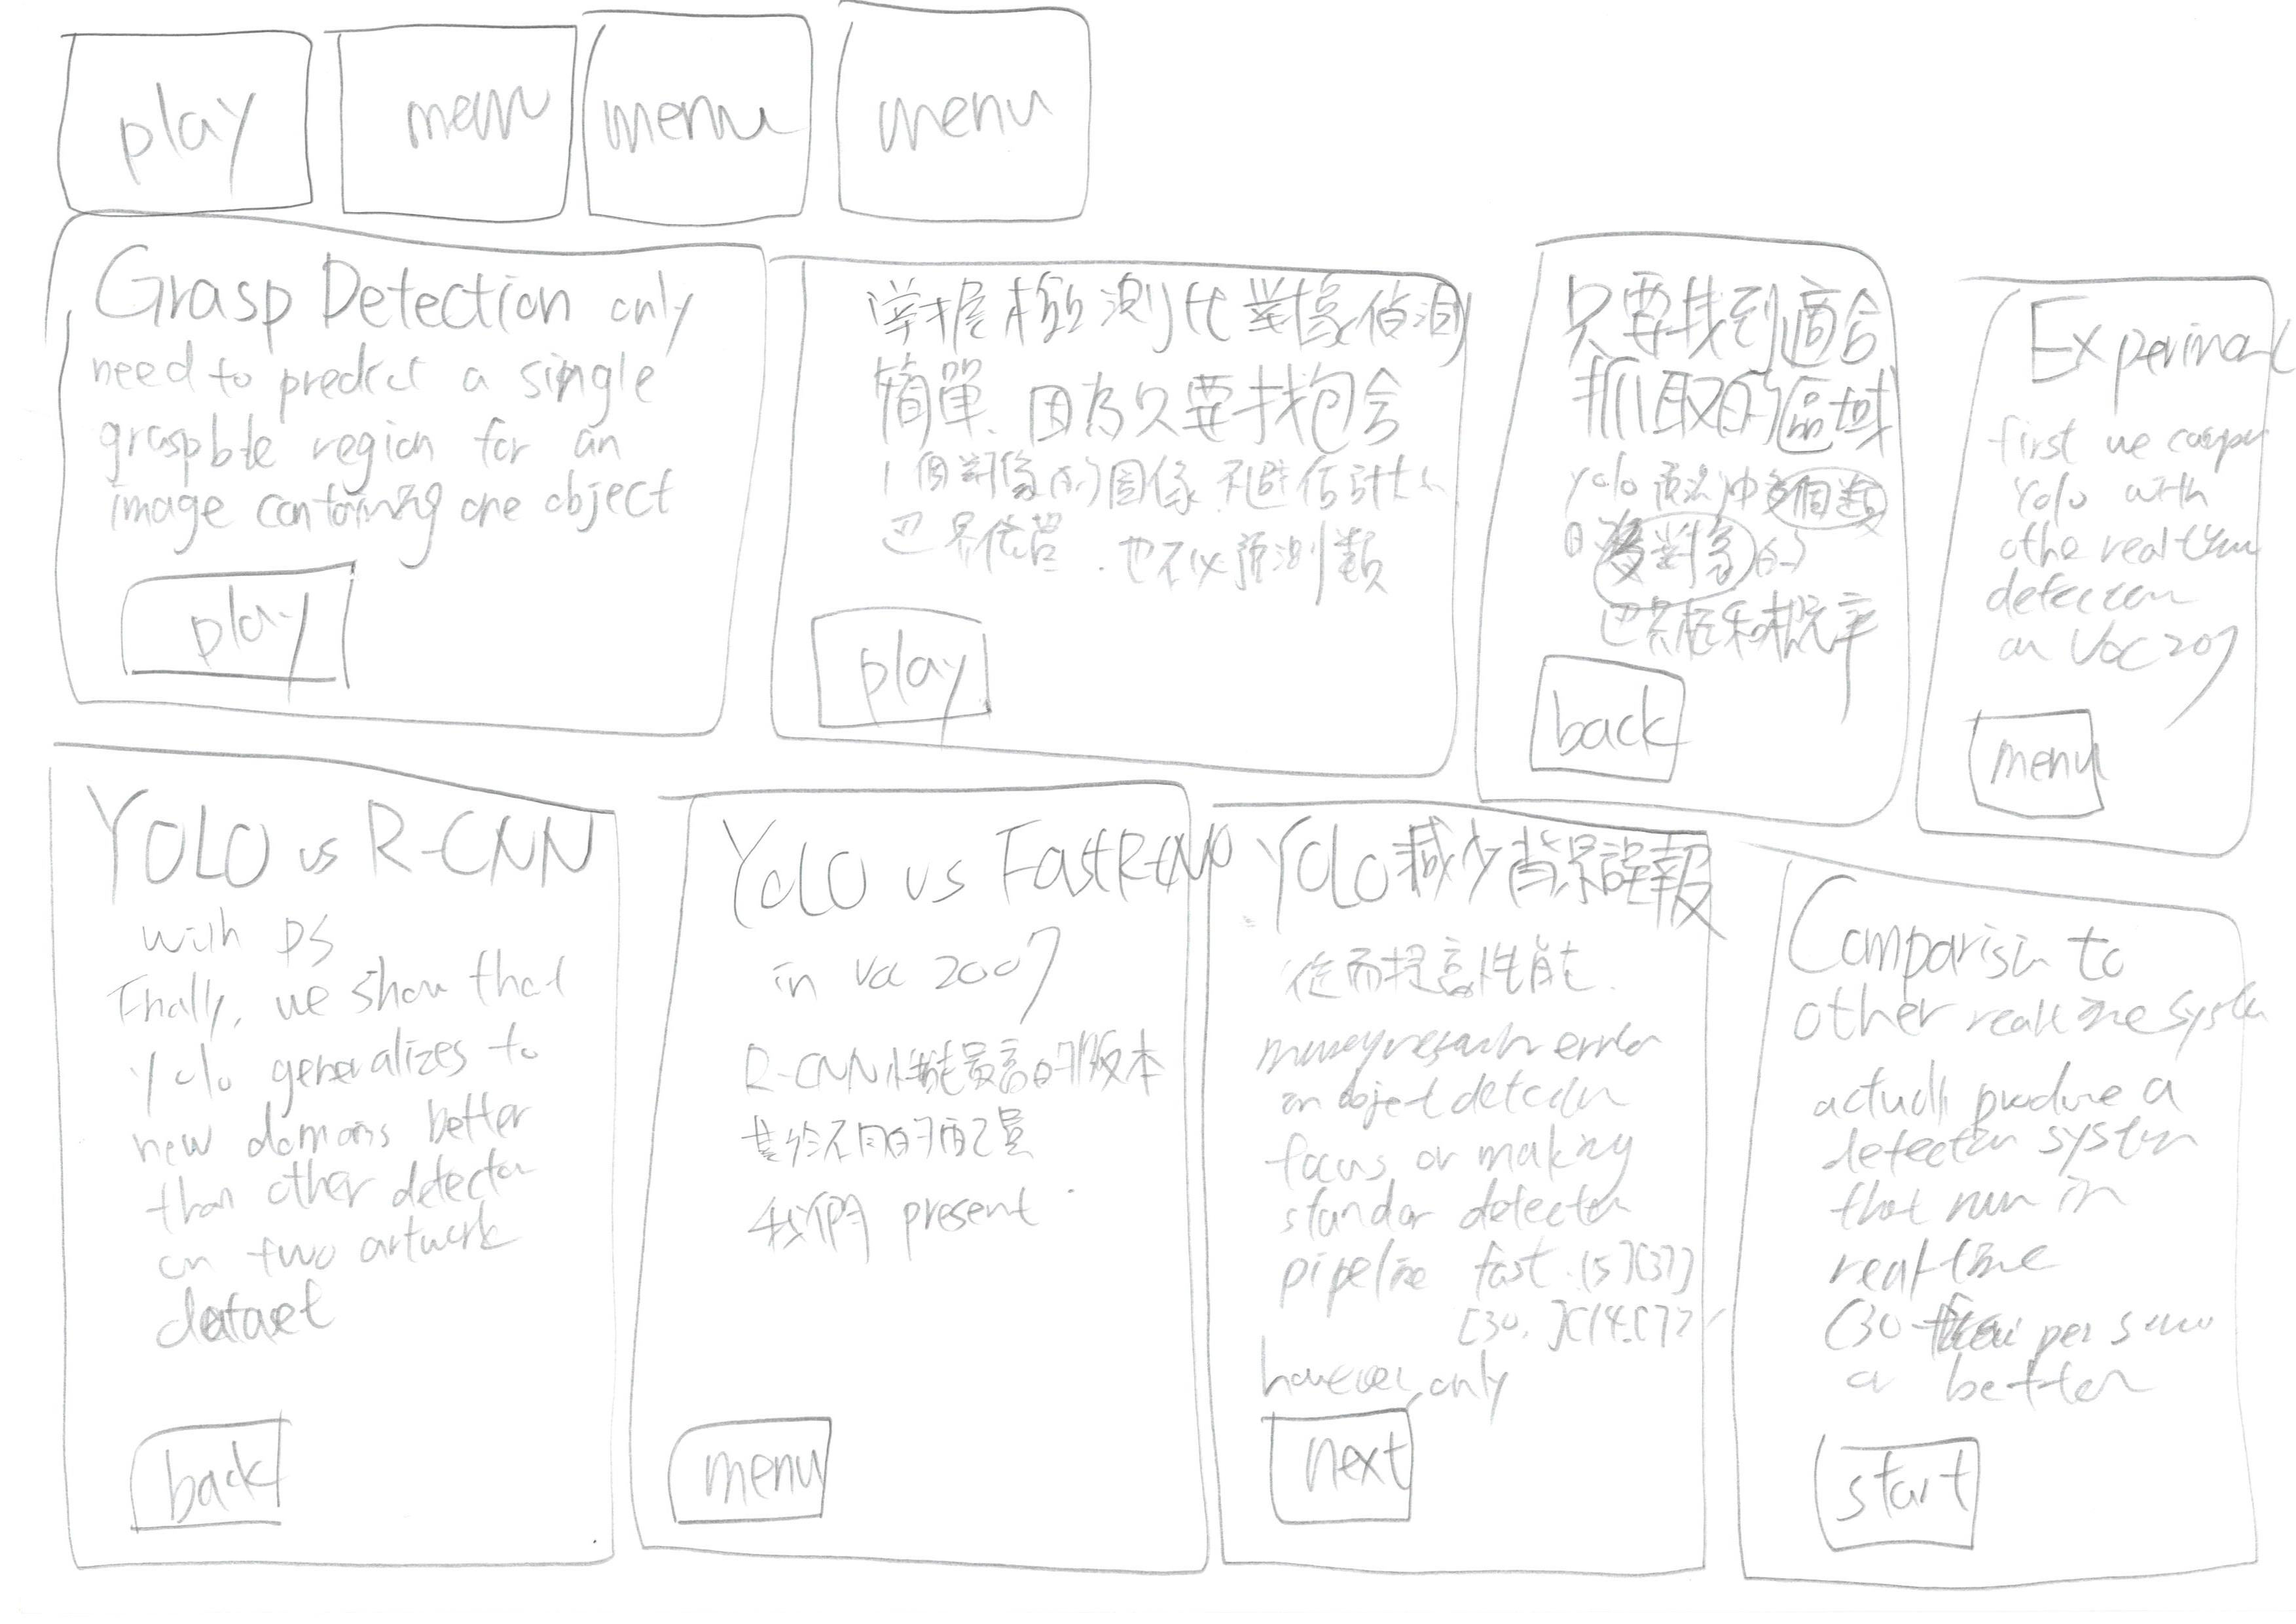back: (1514, 647, 1721, 803)
menu: (812, 0, 1111, 241), (308, 7, 596, 241), (568, 0, 837, 230), (656, 1406, 867, 1540), (1951, 689, 2125, 831)
next: (1246, 1396, 1443, 1538)
play: (47, 7, 325, 228), (98, 550, 374, 694), (791, 591, 1013, 747)
quadruple: (37, 740, 621, 1619), (615, 745, 1199, 1624), (1181, 784, 1751, 1624), (1737, 868, 2296, 1624), (770, 220, 1496, 782), (40, 200, 768, 761), (1475, 213, 1920, 816), (1888, 258, 2292, 852)
row: (18, 736, 2296, 1624), (18, 200, 2296, 868), (14, 0, 2291, 228)
small-title: (867, 269, 1450, 457), (1795, 895, 2277, 1055), (90, 782, 592, 909), (113, 246, 691, 341), (754, 816, 1231, 916), (1591, 276, 1881, 436), (1252, 826, 1691, 924), (2018, 308, 2296, 401)
start: (1795, 1429, 2020, 1571)
text: (1241, 946, 1689, 1401), (97, 912, 578, 1330), (1821, 1060, 2240, 1436), (745, 947, 1152, 1287), (104, 334, 670, 536), (854, 432, 1435, 610), (1540, 443, 1909, 664), (1981, 427, 2247, 689)
